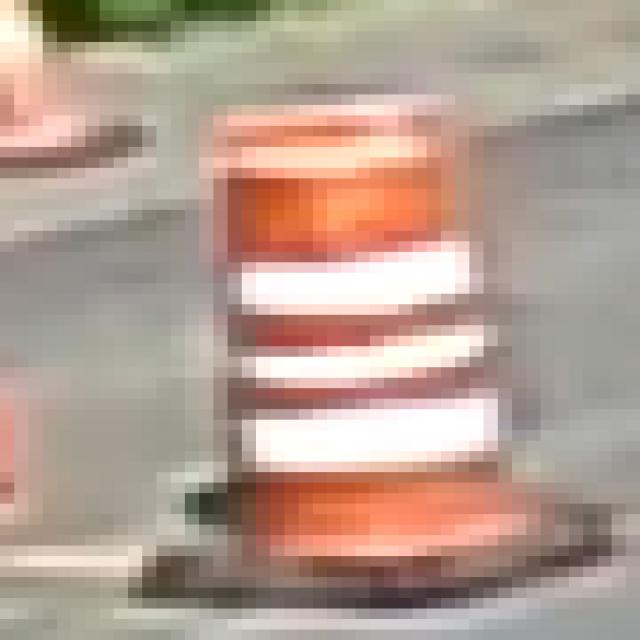big_cone: (146, 90, 589, 608)
